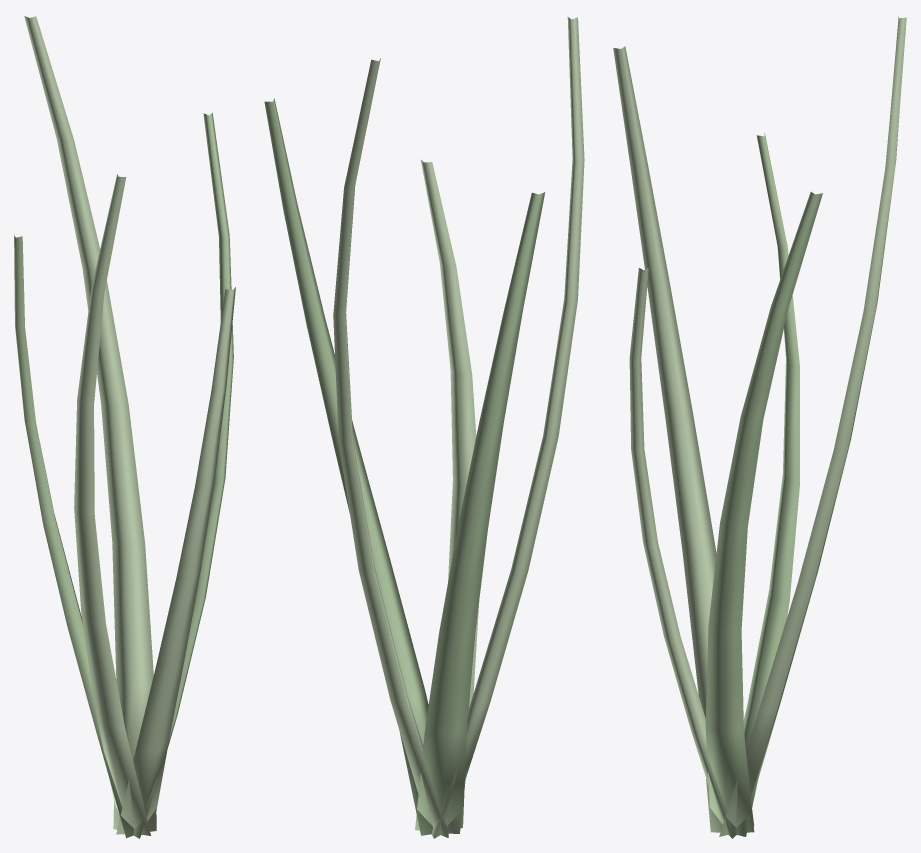
The model's file is chive_m.glb.
3 views of the same model, side by side, from view 1: azimuth 30°, elevation 25°; view 2: azimuth 150°, elevation 25°; view 3: azimuth 270°, elevation 25° (orthographic). The views are drawn at different scales.
Visible parts, largest first — view 1: blade2, blade4, blade0, blade3, blade1; view 2: blade3, blade4, blade2, blade1, blade0; view 3: blade1, blade4, blade2, blade3, blade0.
Boxes of the visible parts, x1,y1,x2,y2 form: blade2: (24,16,156,831); blade4: (74,174,150,835); blade0: (116,287,235,834); blade3: (14,235,133,838); blade1: (133,113,233,838); blade3: (415,192,545,830); blade4: (431,16,584,838); blade2: (333,58,448,837); blade1: (264,98,432,835); blade0: (420,159,479,833); blade1: (705,192,822,832); blade4: (613,46,754,832); blade2: (719,16,906,836); blade3: (736,133,799,836); blade0: (629,267,736,838).
Bounding box in the file's own units: 0.0377 × 0.1219 × 0.0405.
